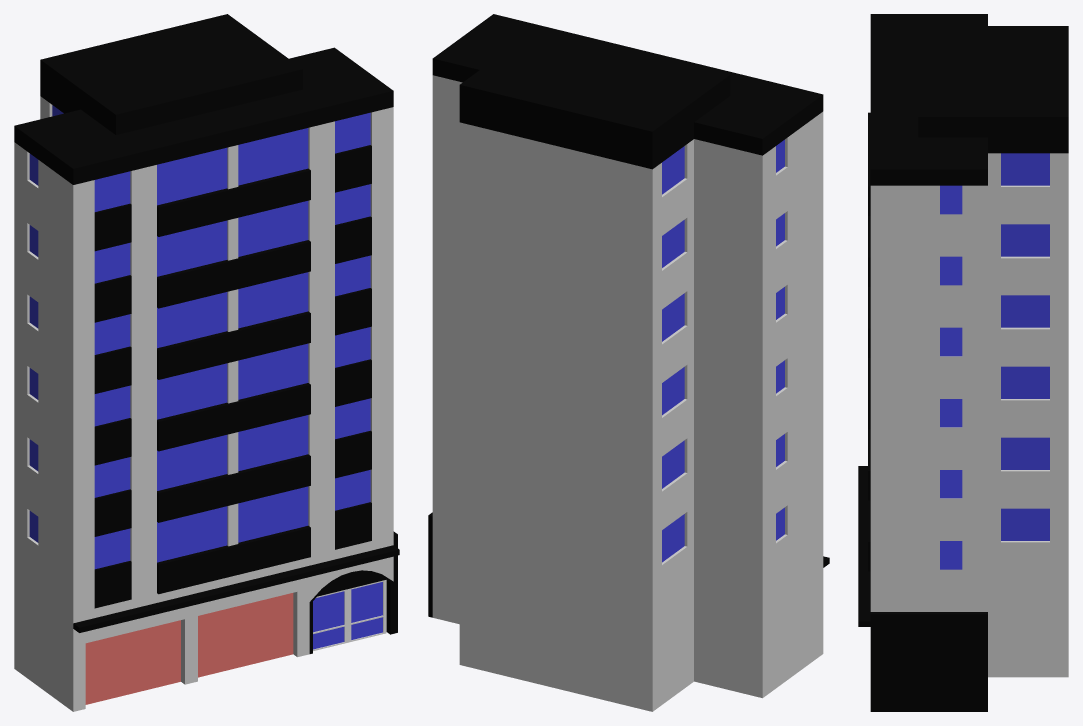
File: building20.fbx
The picture shows the model from 3 angles, left to right: view 1: azimuth 30°, elevation 25°; view 2: azimuth 150°, elevation 25°; view 3: azimuth 270°, elevation 25°; orthographic projection. The views are drawn at different scales.
Visible parts, largest first — view 1: building9; view 2: building9; view 3: building9.
Part boxes in pixels (x1=…): building9: x1=14, y1=14, x2=399, y2=711; building9: x1=428, y1=14, x2=829, y2=711; building9: x1=858, y1=14, x2=1068, y2=711.
Size of the model in its own units: 1460 by 2426 by 822.
